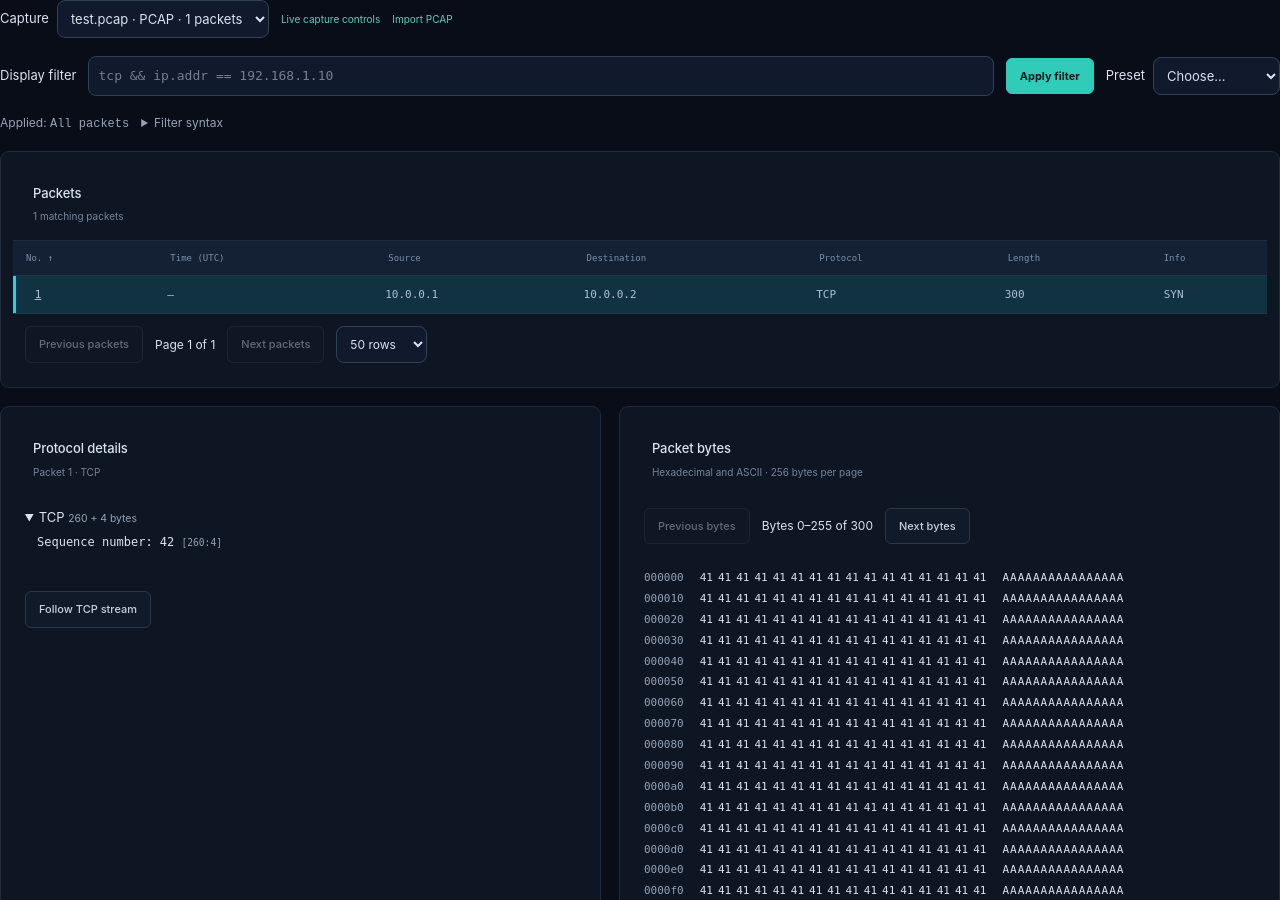
Test: refreshes completed flow metadata while preserving the selected field and byte page
Click the button "Sequence number: 42 [260:4]" at (91, 542), box x1=25 y1=527 x2=576 y2=557
Wait 2000 ms
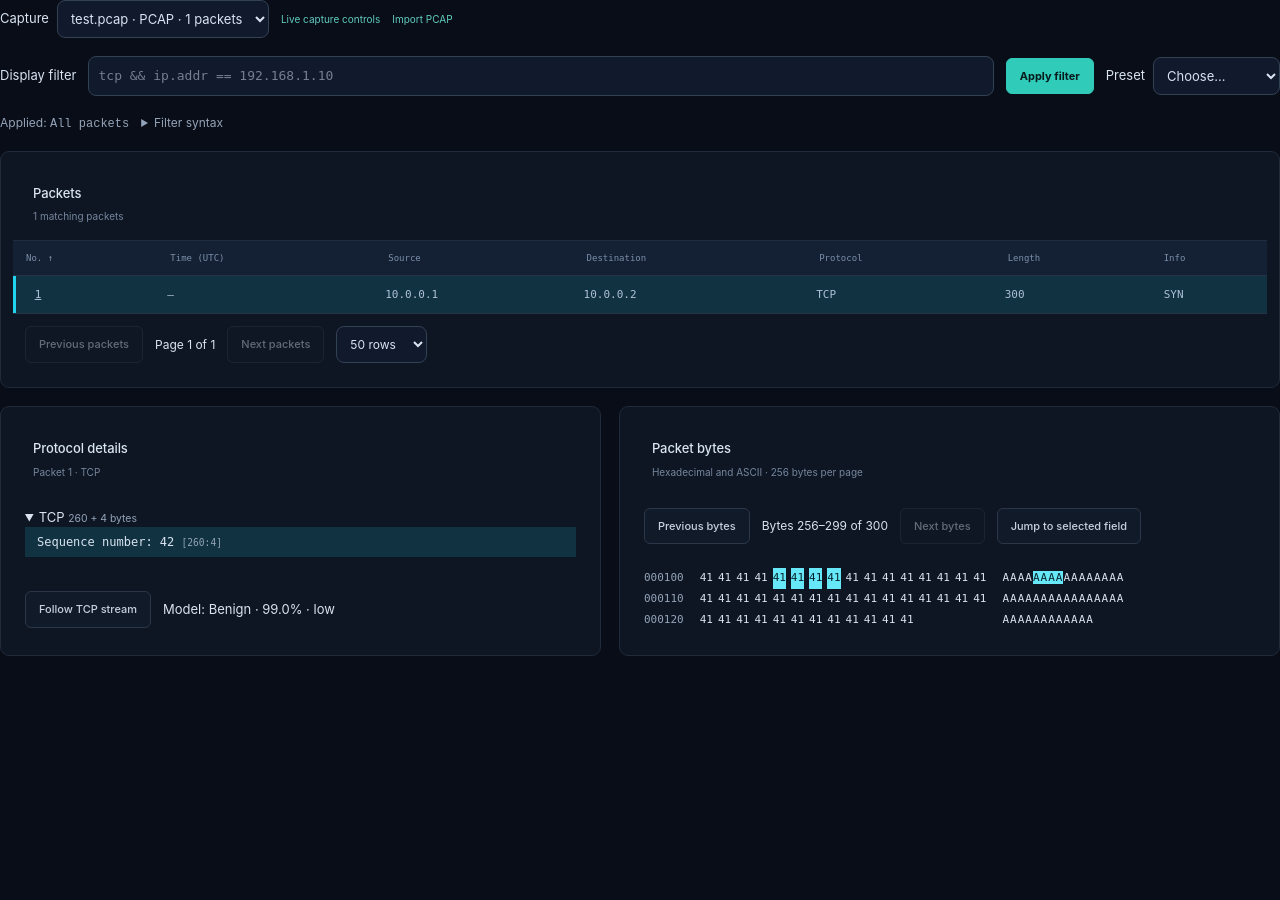
Check: the text "Model: Benign · 99.0% · low" is shown, box x1=163 y1=600 x2=335 y2=619
Check: the text "Bytes 256–299 of 300" is shown, box x1=762 y1=517 x2=888 y2=535
